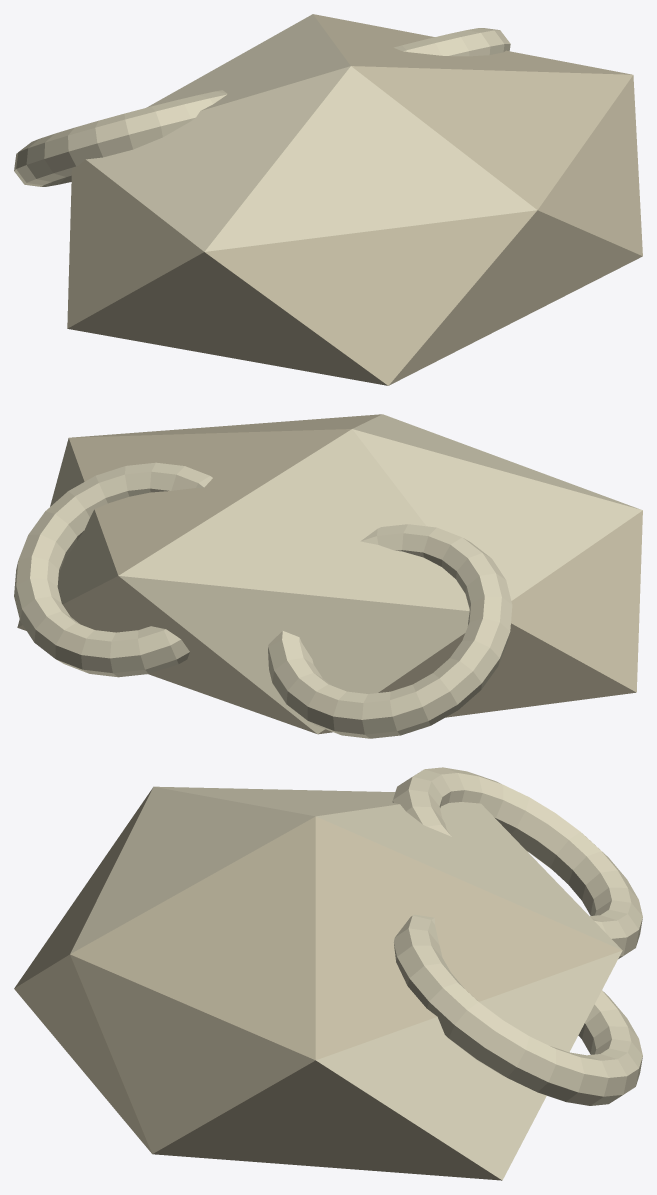
File: Bag_Crumpled.glb
The picture shows the model from 3 angles, top to bottom: view 1: azimuth 30°, elevation 25°; view 2: azimuth 150°, elevation 25°; view 3: azimuth 270°, elevation 25°; orthographic projection. The views are drawn at different scales.
Parts seen in each view (by area): view 1: Litter; view 2: Litter; view 3: Litter.
Part boxes in pixels (left/top/right/bottom): Litter: left=14, top=14, right=642, bottom=385; Litter: left=14, top=414, right=642, bottom=738; Litter: left=14, top=767, right=642, bottom=1180.
Bounding box in the file's own units: 0.4057 × 0.1712 × 0.3447.
